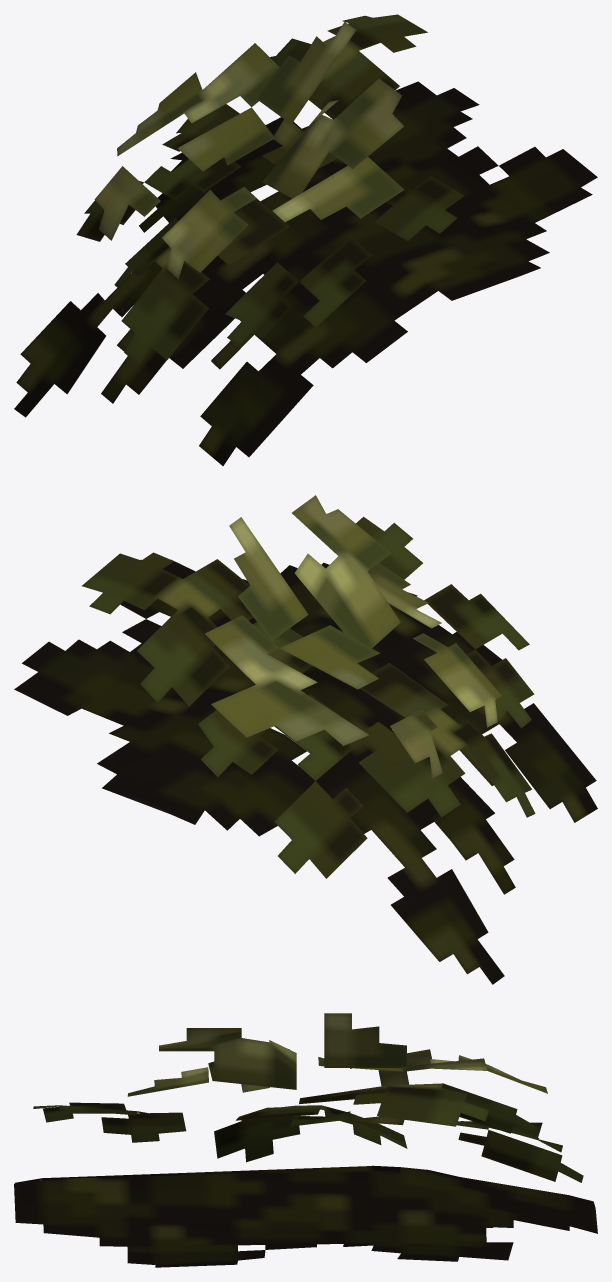
File: EnvFldMD_Grass_J_S.FBX
3 views of the same model, one above another, from view 1: azimuth 30°, elevation 25°; view 2: azimuth 150°, elevation 25°; view 3: azimuth 270°, elevation 25° (orthographic). The views are drawn at different scales.
Visible parts, largest first — view 1: EnvFldMD_Grass_J_S; view 2: EnvFldMD_Grass_J_S; view 3: EnvFldMD_Grass_J_S.
Part boxes in pixels (x1,y1,x2,y2): EnvFldMD_Grass_J_S: [14, 14, 597, 465]; EnvFldMD_Grass_J_S: [14, 495, 597, 984]; EnvFldMD_Grass_J_S: [14, 1013, 597, 1267].
Bounding box in the file's own units: 113 × 80.42 × 106.
1 material, 1 textured.
